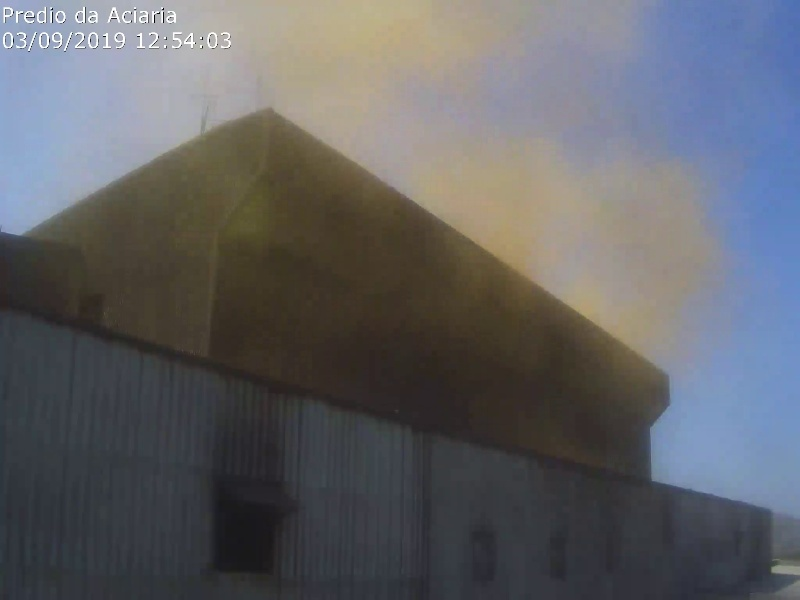pessimo: (189, 7, 711, 430)
